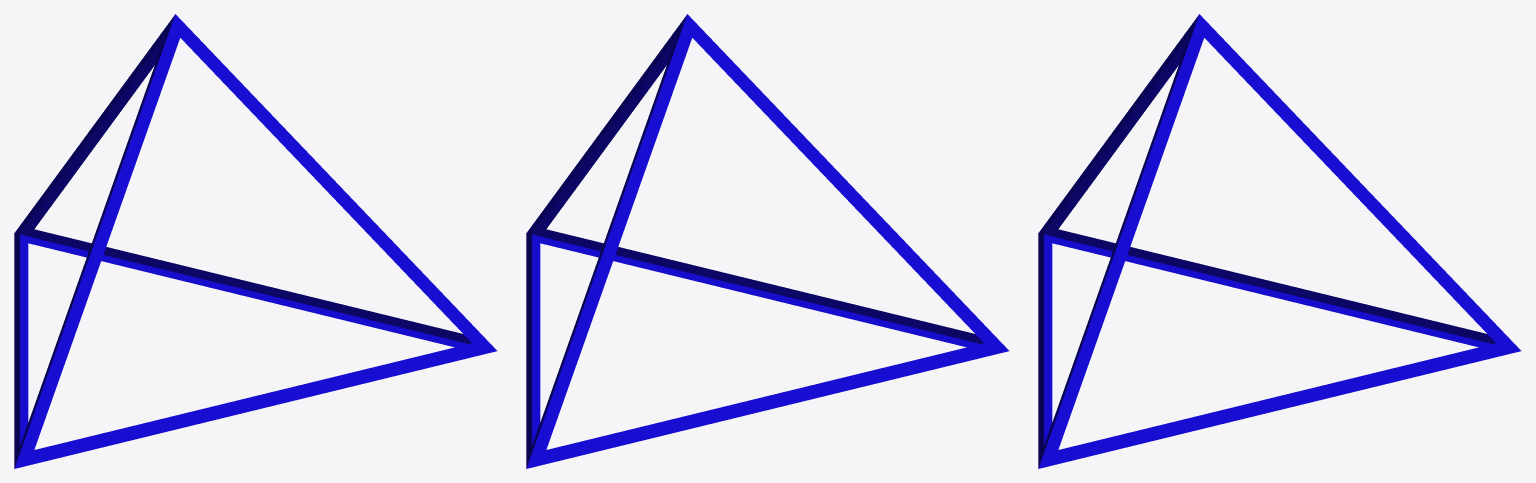
File: aresta-tetraedro.glb
3 renders of one model, left to right at view 1: azimuth 30°, elevation 25°; view 2: azimuth 150°, elevation 25°; view 3: azimuth 270°, elevation 25°, orthographic.
Visible parts, largest first — view 1: Cone; view 2: Cone; view 3: Cone.
Part boxes in pixels (x1,y1,x2,y2): Cone: (14, 14, 496, 468); Cone: (526, 14, 1008, 468); Cone: (1038, 14, 1520, 468).
Bounding box in the file's own units: 1.5 × 1 × 1.3.
